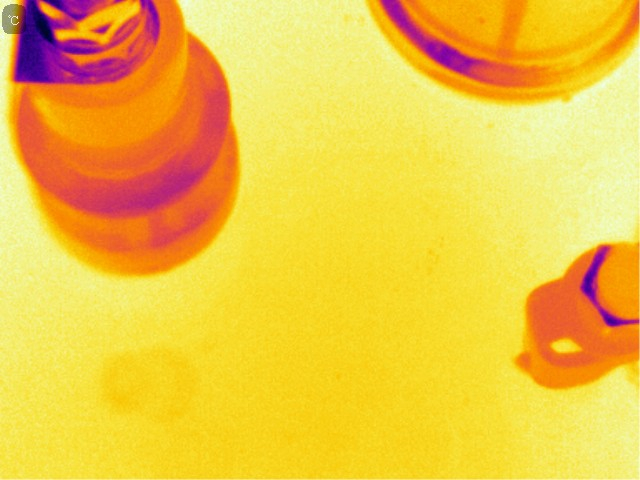Oil: (99, 341, 195, 411)
